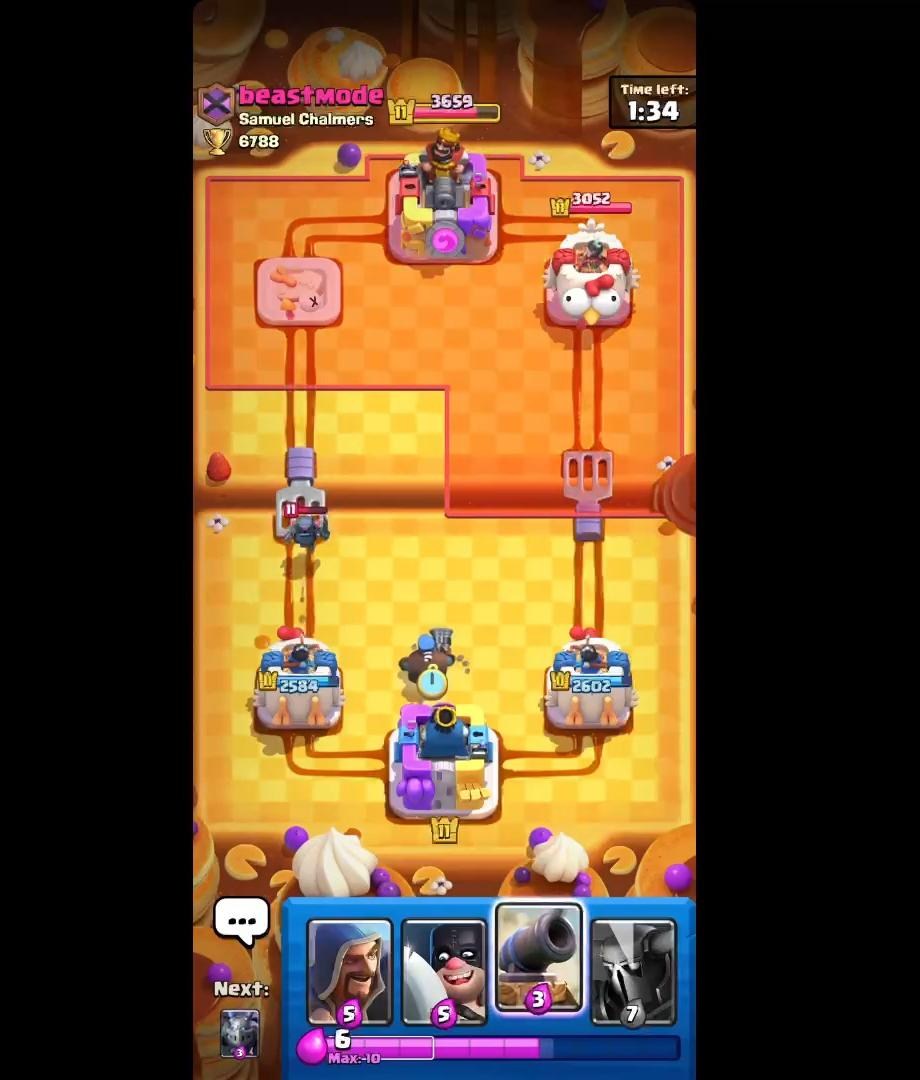Mini Pekka: (283, 500, 340, 562)
